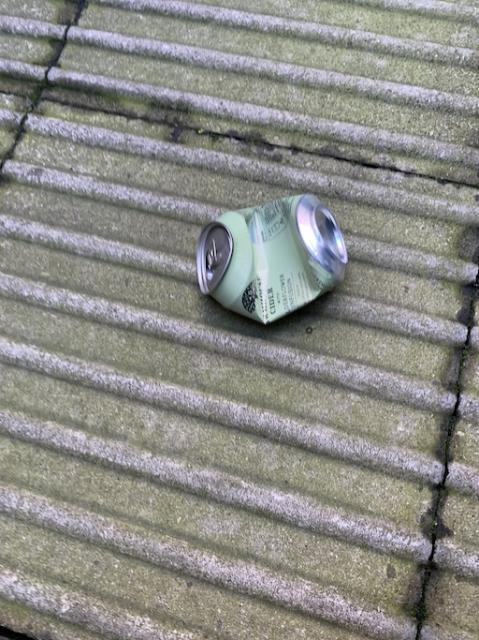metal: (196, 193, 347, 322)
